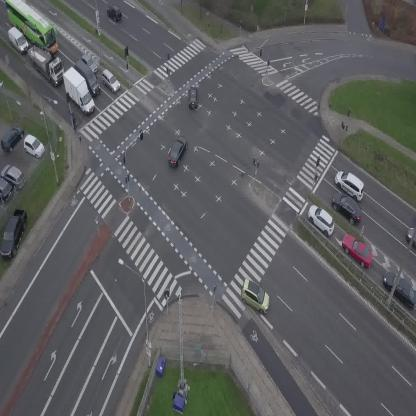bicycle: (71, 115, 79, 132)
car: (337, 229, 379, 272), (233, 278, 277, 316), (327, 188, 368, 228), (330, 166, 370, 203), (303, 201, 341, 239), (163, 134, 191, 169), (96, 67, 123, 95), (79, 52, 101, 75), (104, 2, 125, 23), (188, 86, 198, 110), (406, 227, 416, 247)
lorry: (17, 35, 73, 89), (58, 63, 97, 119), (72, 57, 104, 99), (3, 25, 33, 55)
